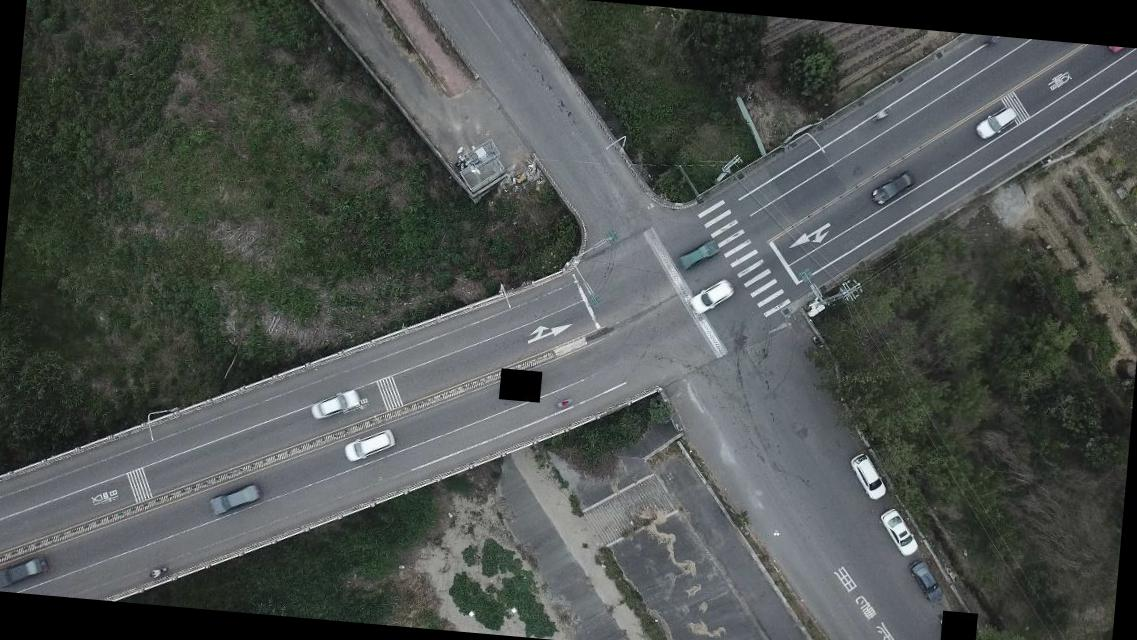vehicle: (876, 507, 922, 558), (846, 452, 890, 500), (0, 550, 51, 591), (342, 426, 397, 464), (308, 386, 363, 423), (206, 482, 262, 518), (871, 167, 916, 209), (974, 103, 1018, 143), (676, 235, 720, 274), (689, 278, 734, 316), (907, 560, 945, 602)
